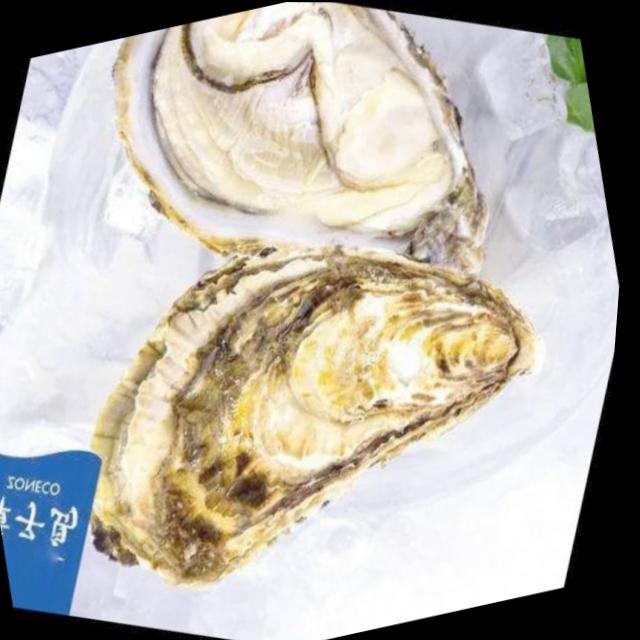Oyster-Indeterminate: (90, 249, 537, 588)
Oyster-Open: (110, 2, 488, 277)
